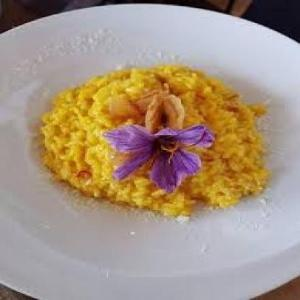Saffron: (105, 124, 214, 194)
